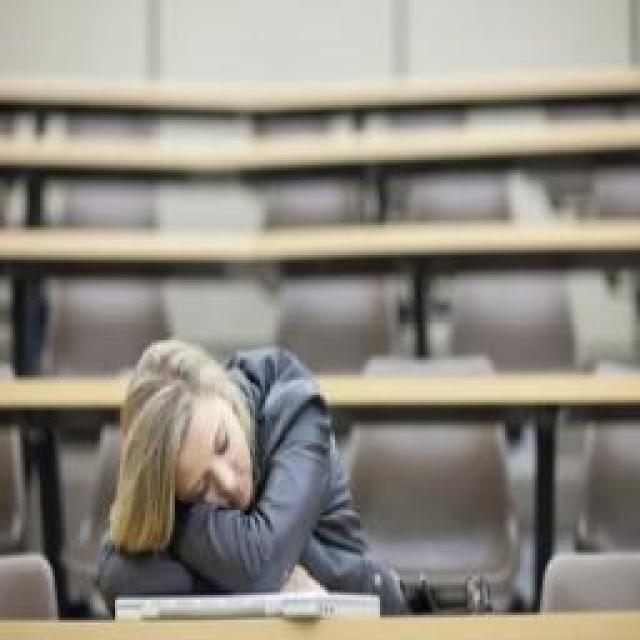sleep: (98, 340, 400, 620)
